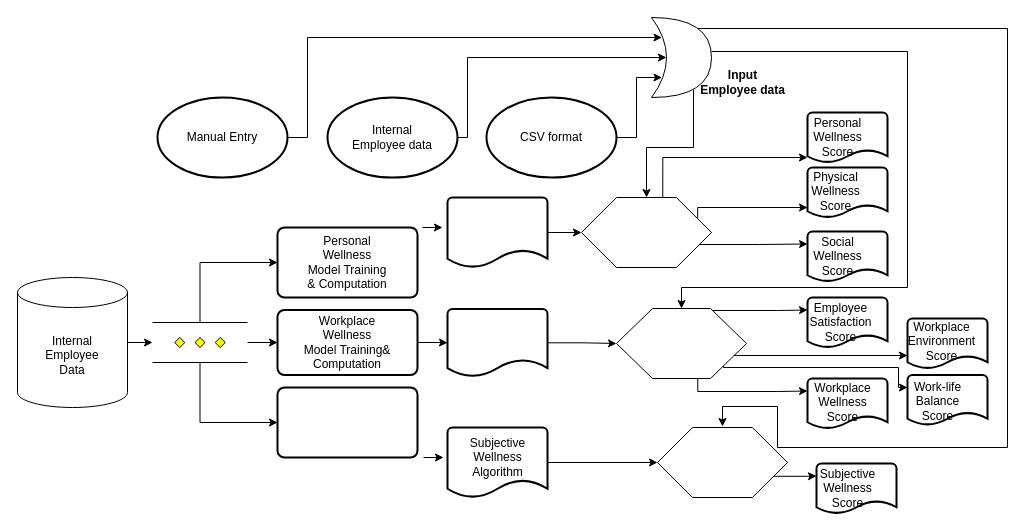
The diagram is 1033 pixels wide and 532 high, and some of its shapes have lost their labels. The centre of each missing label's shape, as x and y in pixels:
"Personal Wellness Algorithm" belongs at (497,232).
"Personal Wellness Scoring" belongs at (646,232).
"Subjective Wellness Model Training& Computation" belongs at (347,422).
"Subjective Wellness Scoring" belongs at (722,462).
"Workplace Wellness Algorithm" belongs at (497,342).
"Workplace Wellness Scoring" belongs at (681,343).
